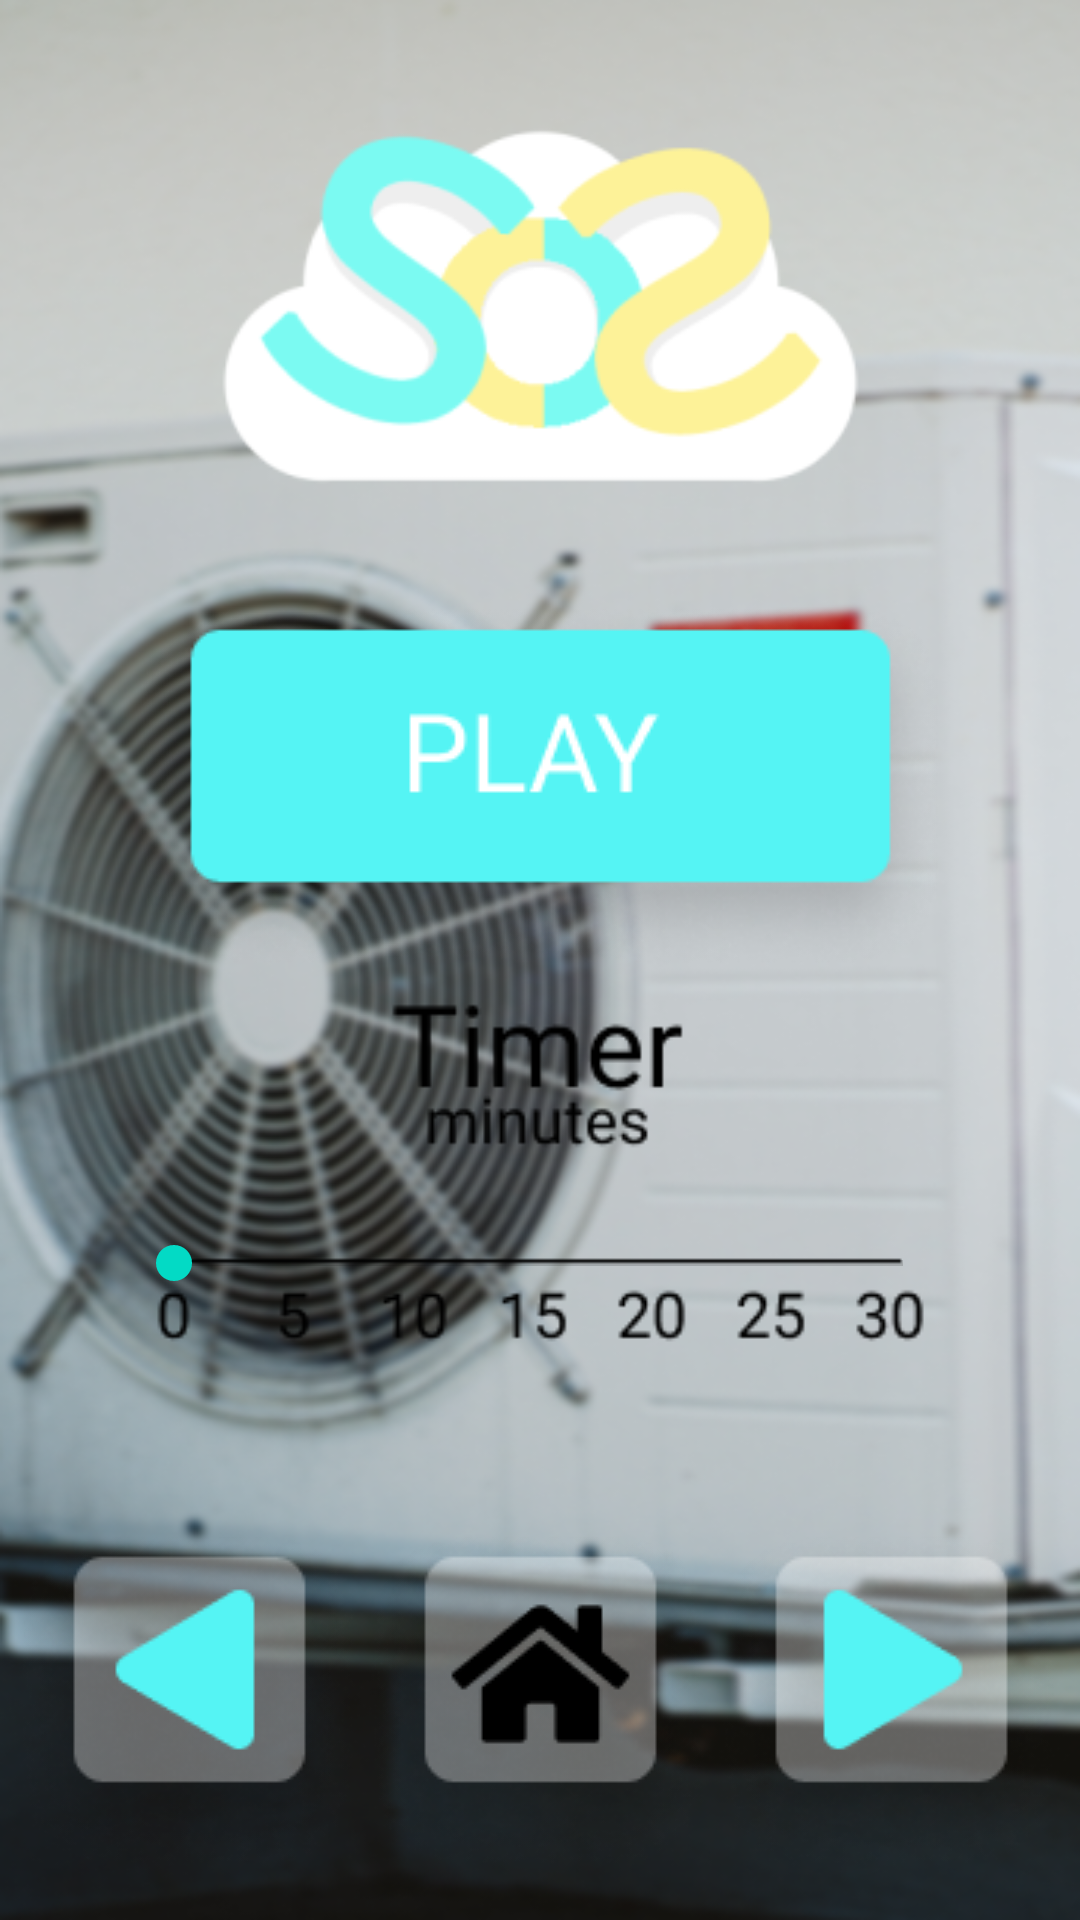

Icon click points for this 1080px×1920px phone screenshot, format point (x, y):
homebutton: point (540, 1699)
nextbutton: point (891, 1699)
previousbutton: point (189, 1655)
